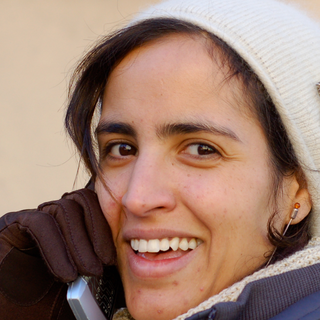eye: (168, 136, 228, 165), (99, 136, 144, 165)
